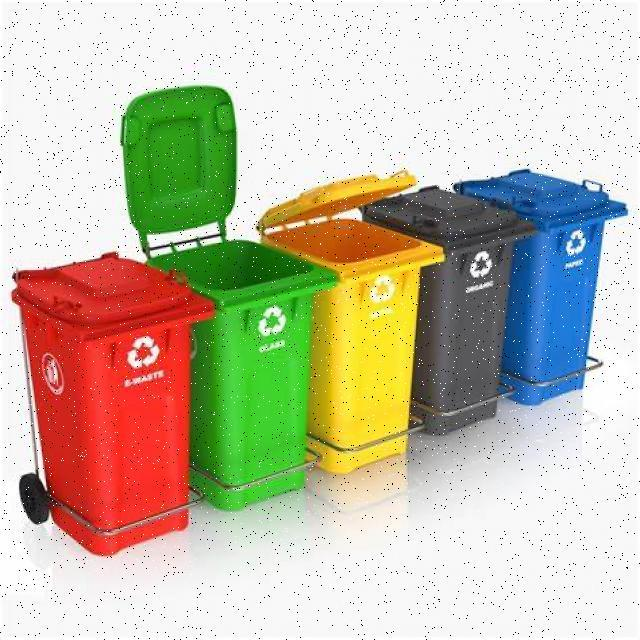garbage container: (100, 77, 337, 513), (253, 168, 447, 517), (11, 244, 189, 573), (459, 142, 625, 420), (378, 166, 535, 444)
